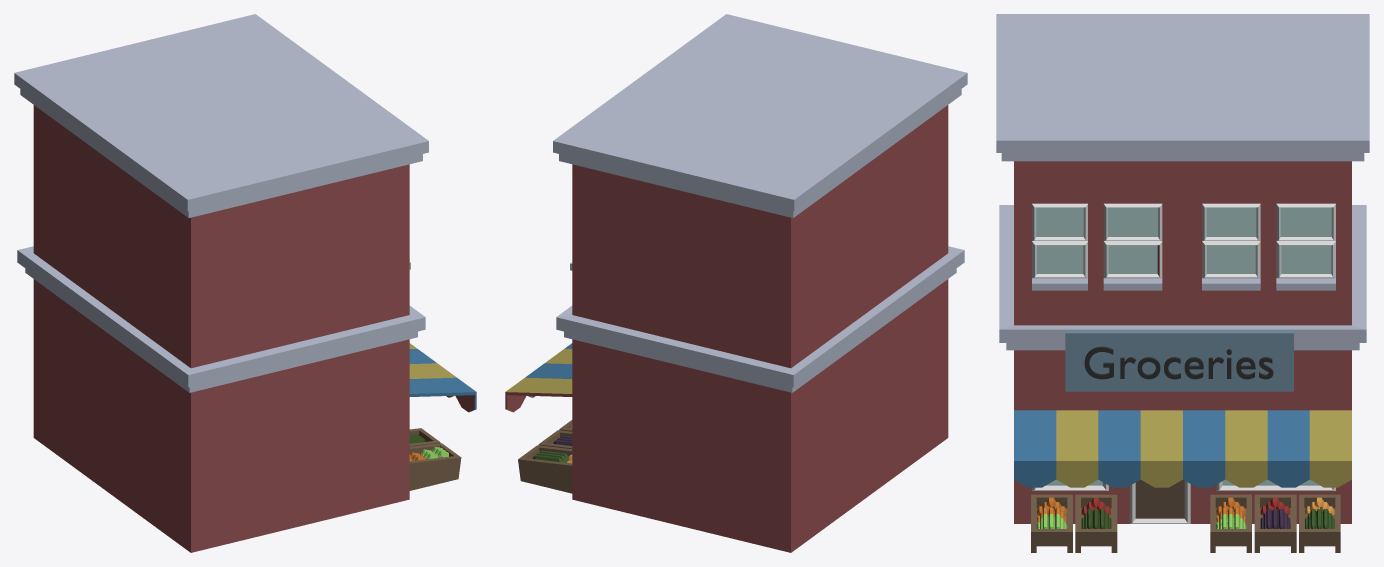
Rendered from Groceries.fbx.
The picture shows the model from 3 angles, left to right: view 1: azimuth 30°, elevation 25°; view 2: azimuth 150°, elevation 25°; view 3: azimuth 270°, elevation 25°; orthographic projection. The views are drawn at different scales.
Visible parts, largest first — view 1: Cube, Cube.004; view 2: Cube, Cube.003, Cube.000; view 3: Cube, Cube.001, Cube.004, Cube.000, Text, Cube.003.
Boxes of the visible parts, x1,y1,x2,y2 form: Cube: (14,14,476,552); Cube.004: (409,428,461,490); Cube: (505,14,967,552); Cube.003: (518,445,572,493); Cube.000: (538,420,572,448); Cube: (996,14,1369,523); Cube.001: (1065,330,1293,391); Cube.004: (1031,494,1117,552); Cube.000: (1210,494,1296,552); Text: (1084,346,1273,379); Cube.003: (1299,494,1340,552).
Bounding box in the file's own units: 367 × 427 × 371.
